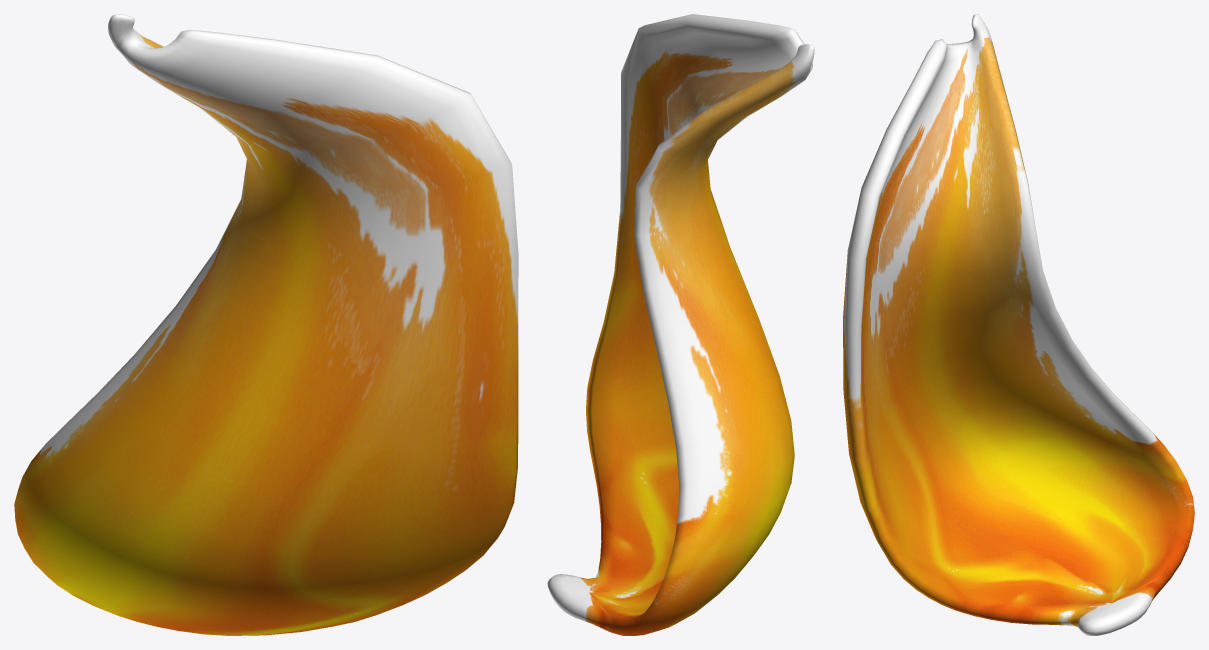
File: candle2.fbx
The picture shows the model from 3 angles, left to right: view 1: azimuth 30°, elevation 25°; view 2: azimuth 150°, elevation 25°; view 3: azimuth 270°, elevation 25°; orthographic projection. The views are drawn at different scales.
Parts seen in each view (by area): view 1: Sphere.001; view 2: Sphere.001; view 3: Sphere.001.
Boxes of the visible parts, left/top/right/bottom form: Sphere.001: left=14, top=14, right=518, bottom=635; Sphere.001: left=547, top=14, right=814, bottom=635; Sphere.001: left=843, top=14, right=1194, bottom=635.
Size of the model in its own units: 14.01 by 27.53 by 16.34.
Materials: 1 (1 with a texture image).
